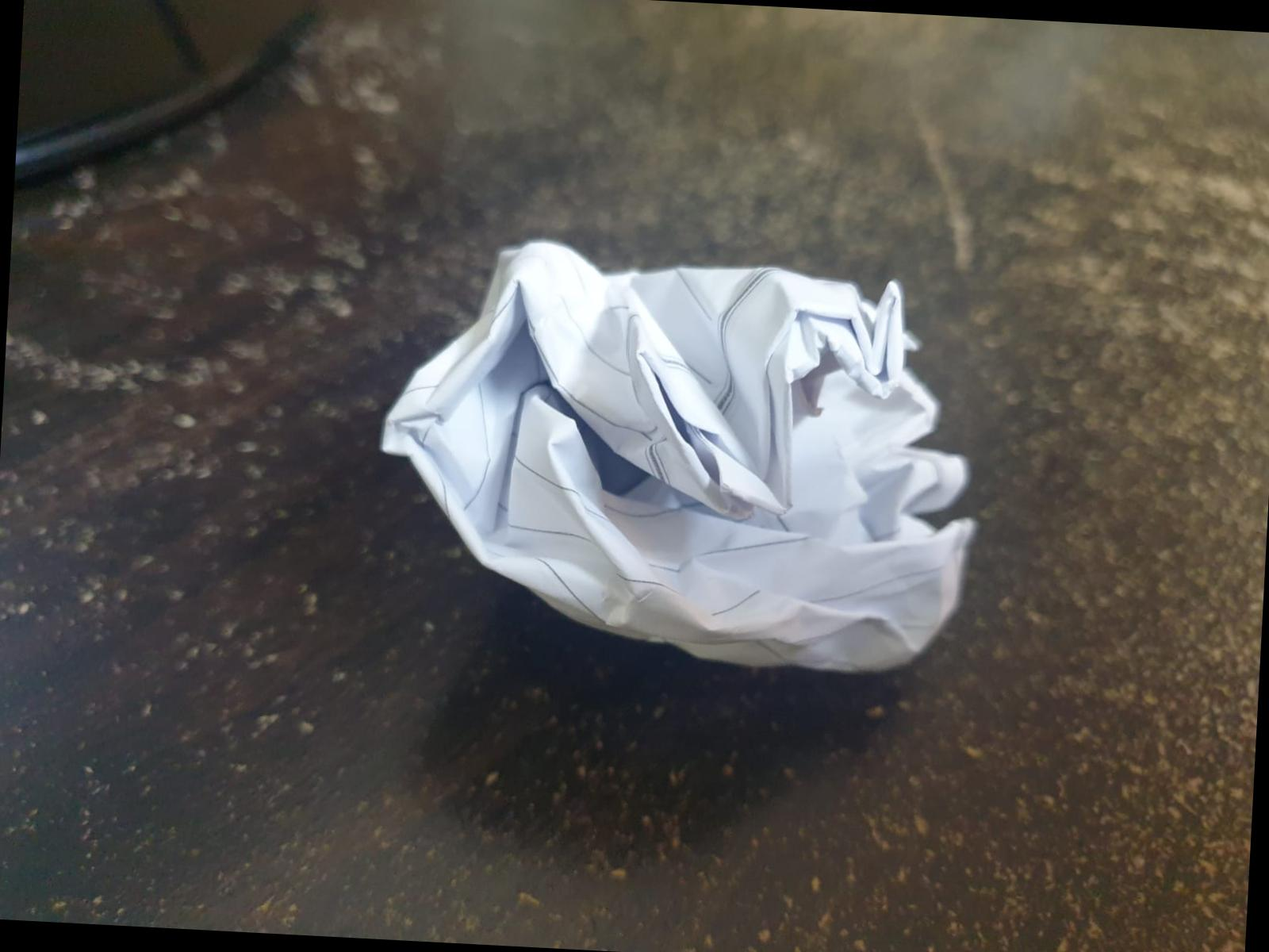Kertas: (374, 252, 979, 673)
